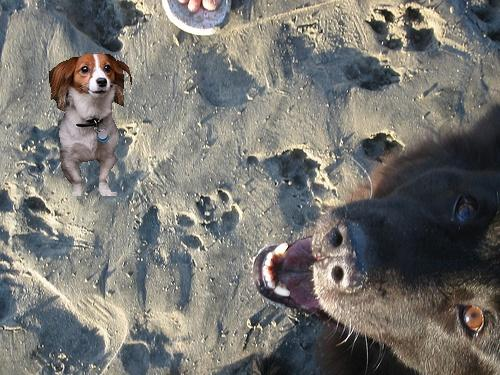tampered: (50, 54, 132, 196)
